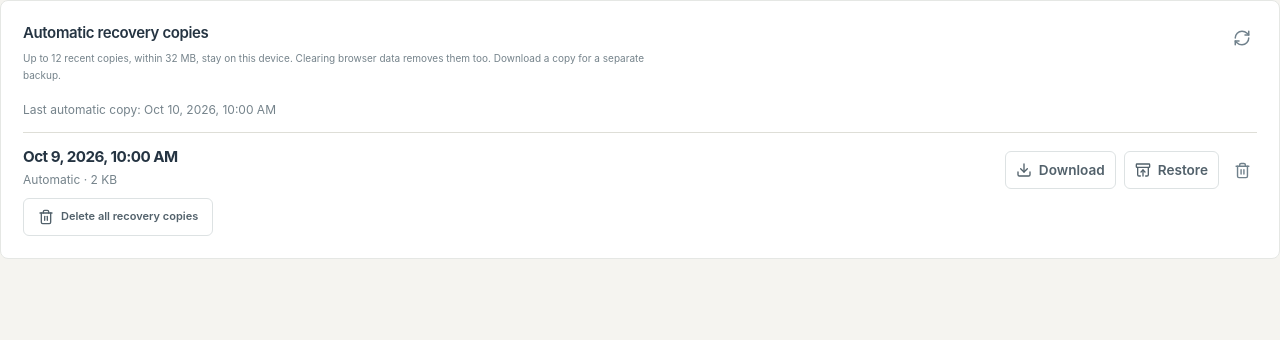
Test: recovery copy actions › does not replace a current plan if previously valid recovery bytes become unreadable
Click the button with aria-label "Restore recovery copy" at (1171, 170), box [1124, 151, 1219, 189]
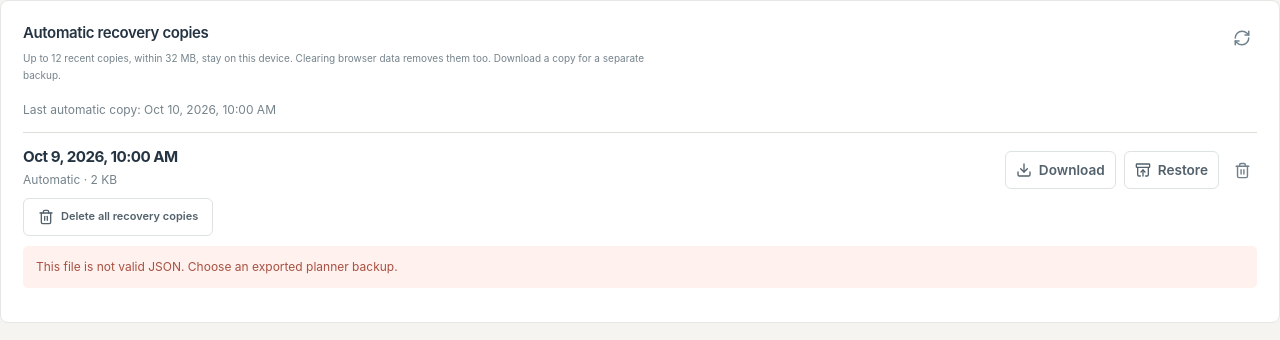
Expected: the message shows "valid JSON", [36, 259, 398, 274]
